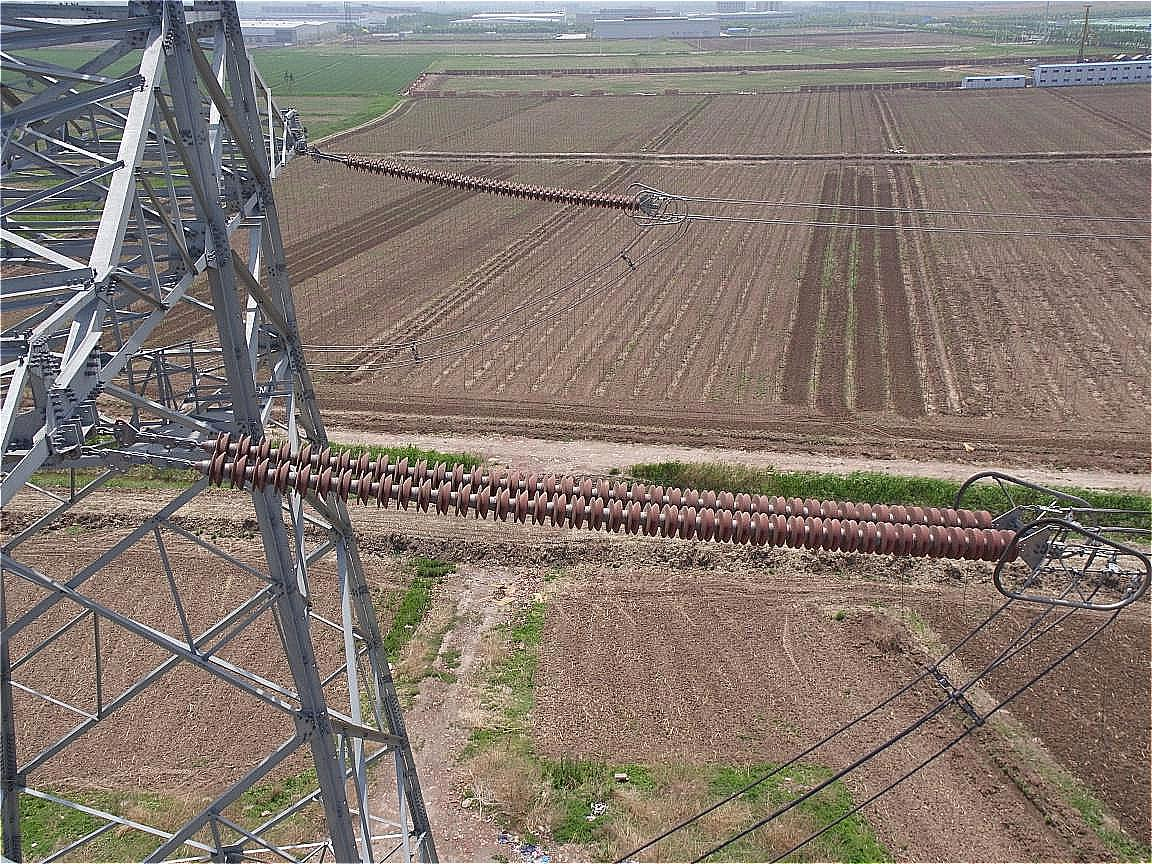insultor2: (147, 412, 1047, 592), (329, 140, 642, 216)
